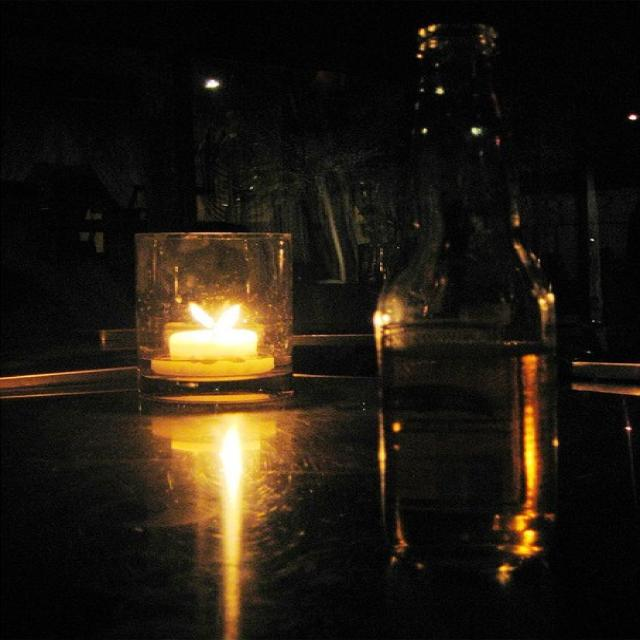Bottle: (320, 2, 592, 593)
Cup: (78, 209, 306, 450)
